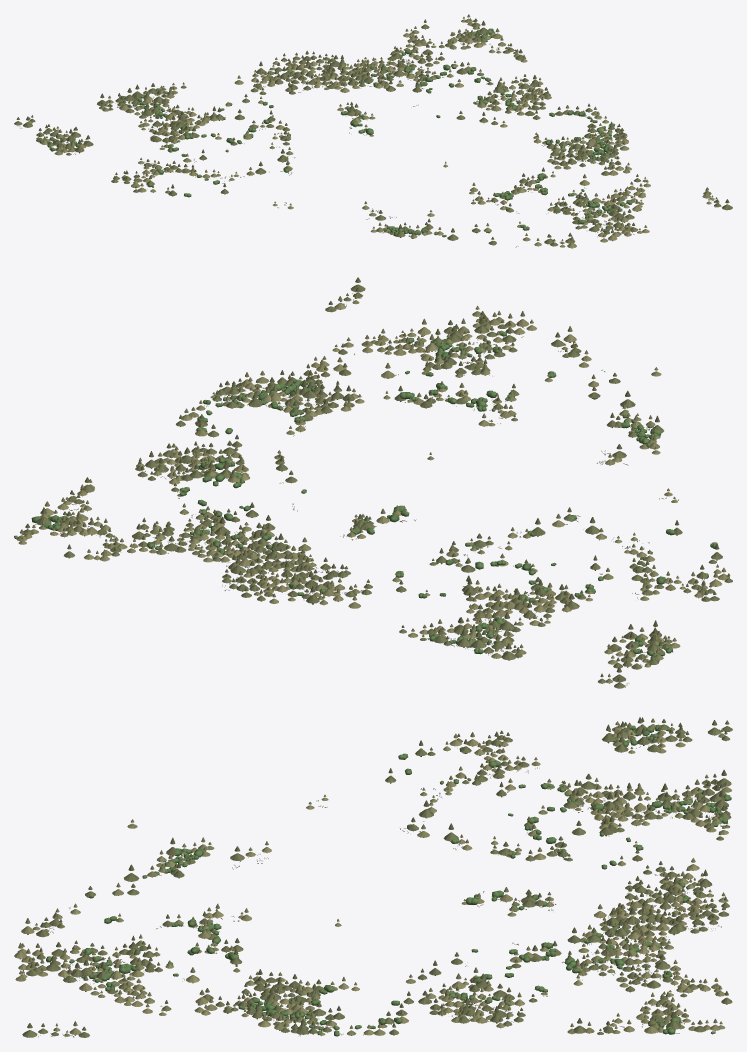
Rendered from Foliage_P1.fbx.
3 renders of one model, top to bottom at view 1: azimuth 30°, elevation 25°; view 2: azimuth 150°, elevation 25°; view 3: azimuth 270°, elevation 25°, orthographic. The views are drawn at different scales.
Size of the model in its own units: 61888 by 4842 by 61797.
